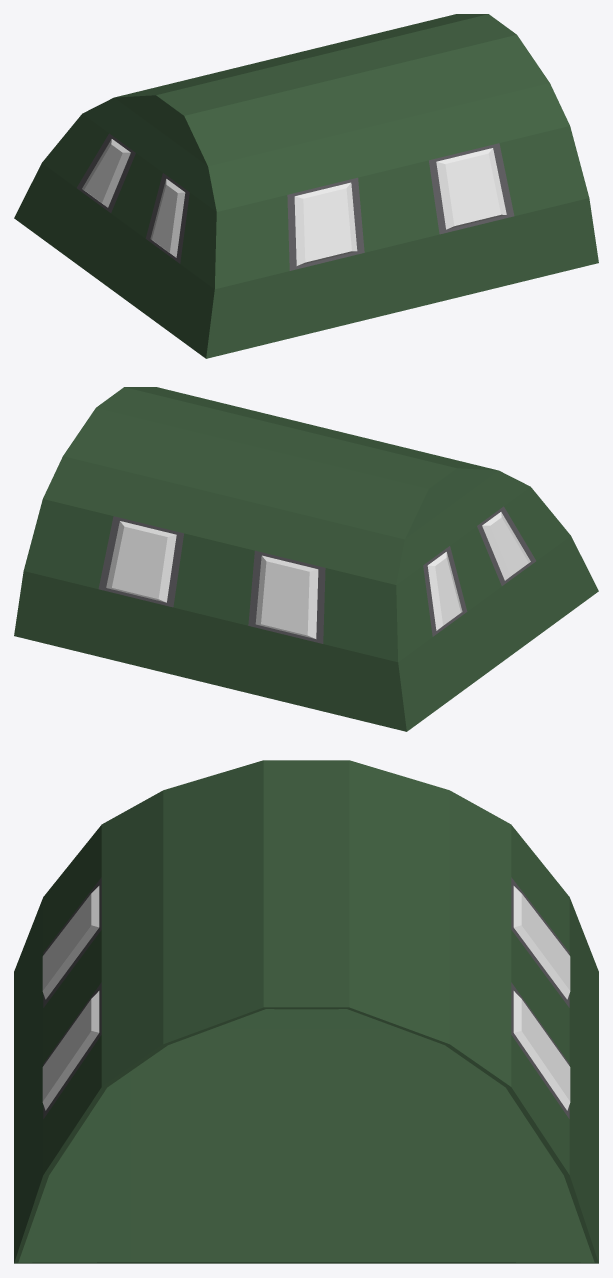
3 views of the same model, one above another, from view 1: azimuth 30°, elevation 25°; view 2: azimuth 150°, elevation 25°; view 3: azimuth 270°, elevation 25° (orthographic). The views are drawn at different scales.
Visible parts, largest first — view 1: Cube; view 2: Cube; view 3: Cube.
Part boxes in pixels (<box>): Cube: <box>14,14,598,358</box>; Cube: <box>14,387,598,731</box>; Cube: <box>14,760,598,1263</box>.
Size of the model in its own units: 7.08 by 6 by 2.9.
